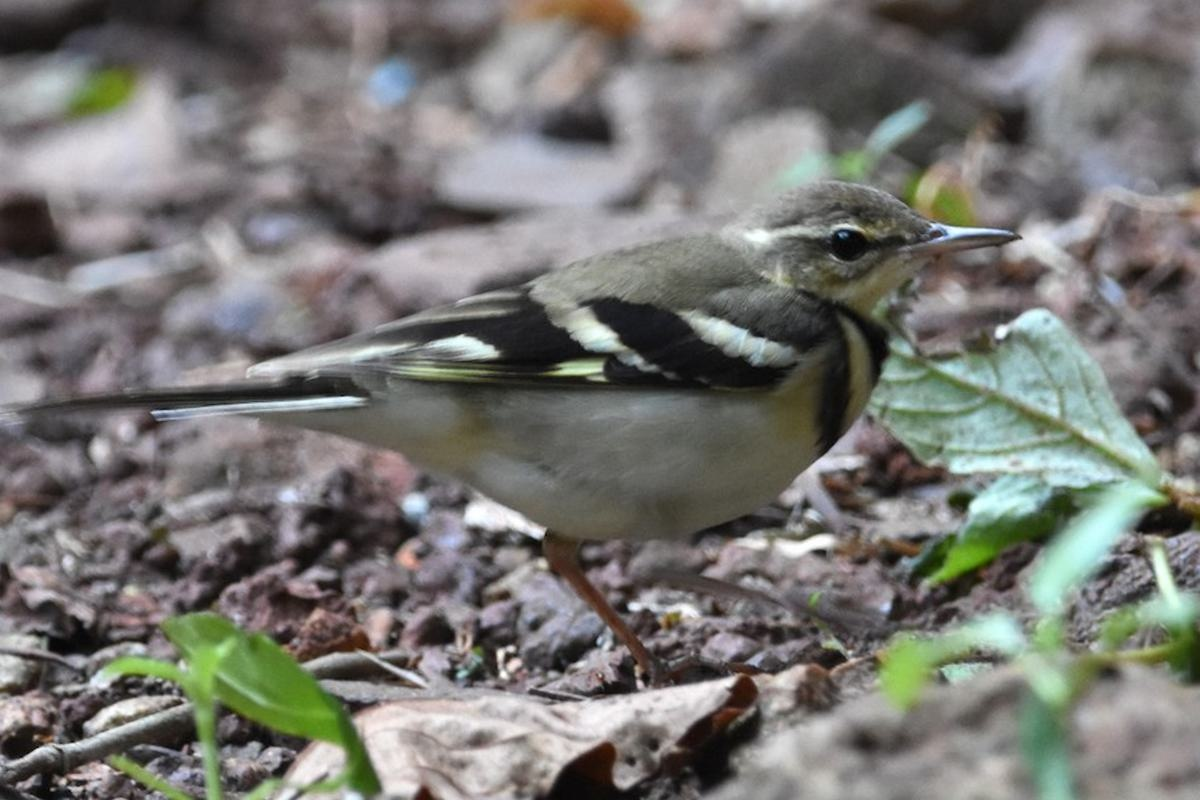wagtail: (228, 171, 1014, 552)
